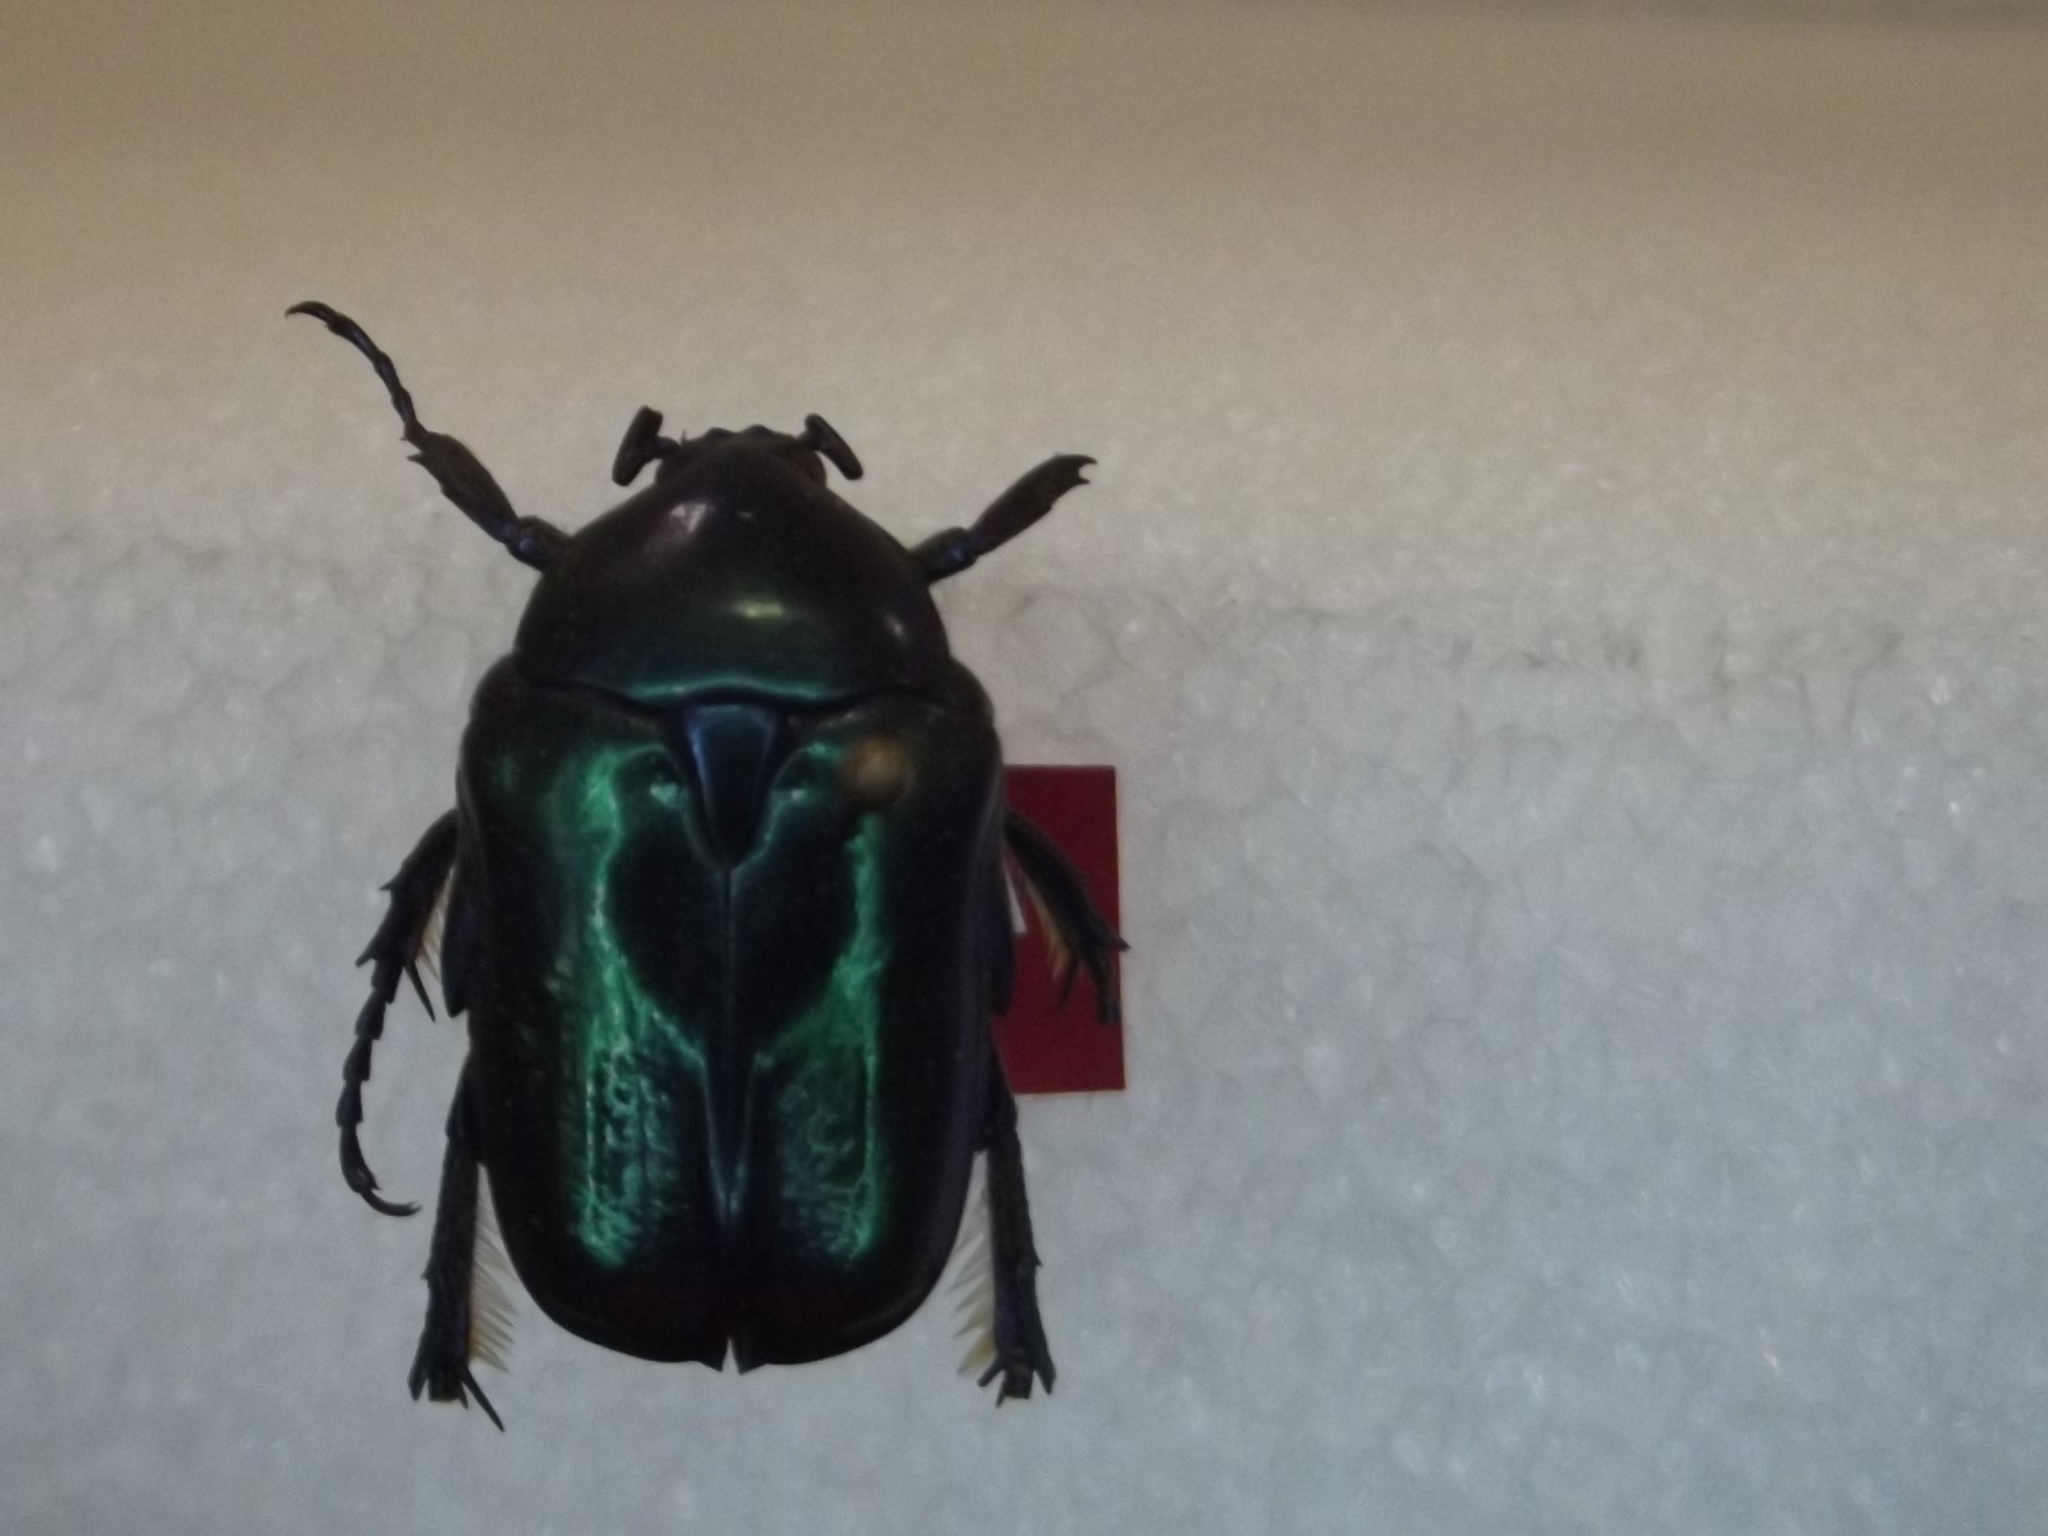Protaetia_besucheti: (258, 282, 1134, 1439)
